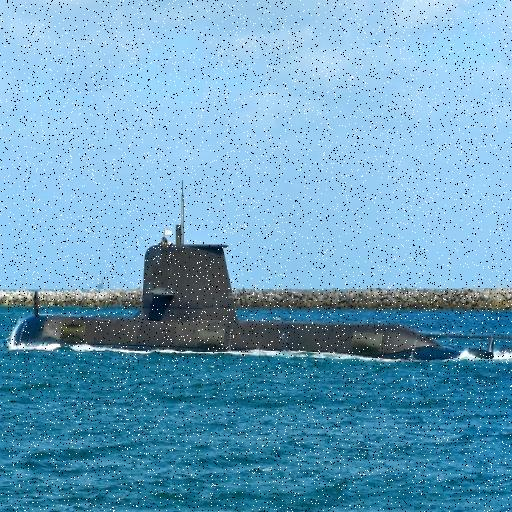submarine: (4, 244, 498, 360)
